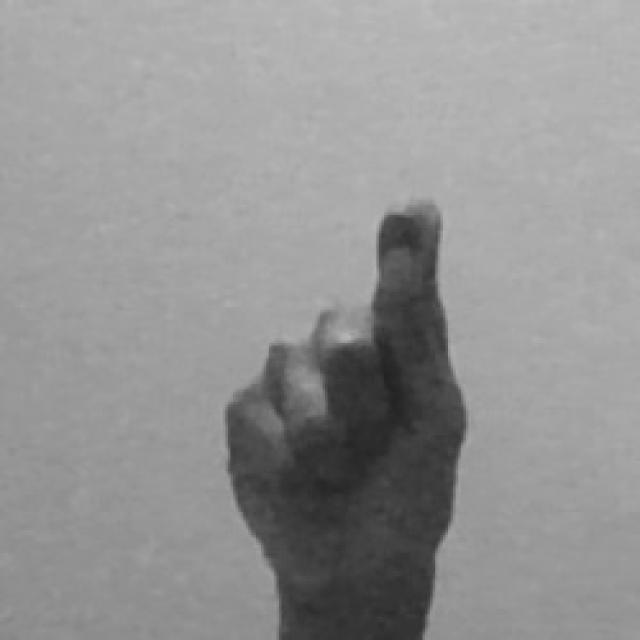T: (215, 194, 482, 640)
